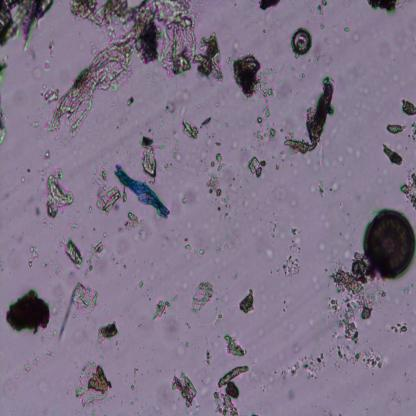Background material: (46, 1, 226, 139), (282, 78, 336, 156), (330, 257, 379, 320), (0, 0, 57, 49), (7, 288, 52, 337), (336, 79, 376, 132), (204, 148, 232, 217), (271, 349, 329, 382), (213, 365, 249, 415), (88, 164, 121, 216), (76, 360, 112, 406), (41, 165, 74, 215), (262, 60, 303, 98), (328, 300, 361, 343), (301, 36, 339, 73), (326, 347, 384, 371), (233, 54, 262, 100), (370, 22, 399, 62), (68, 282, 100, 317), (172, 372, 198, 410), (56, 297, 76, 343), (190, 278, 214, 314), (29, 48, 55, 81), (140, 132, 158, 178), (303, 0, 328, 31), (61, 236, 84, 268), (254, 111, 276, 142), (173, 183, 200, 208), (164, 91, 192, 114), (398, 20, 416, 55), (366, 0, 401, 18), (249, 364, 273, 390), (97, 318, 120, 345), (336, 226, 356, 257), (334, 139, 366, 158), (284, 238, 300, 276), (223, 334, 248, 358), (165, 136, 181, 171), (86, 239, 104, 270), (306, 144, 325, 172), (312, 178, 340, 196), (402, 170, 416, 205), (238, 288, 256, 315), (216, 231, 238, 253), (178, 119, 200, 141), (152, 298, 171, 323), (170, 335, 191, 357), (247, 155, 266, 179), (312, 211, 334, 231), (383, 144, 403, 166), (320, 150, 346, 166), (203, 115, 219, 140), (119, 211, 139, 231), (0, 97, 8, 147), (262, 218, 278, 242), (21, 353, 39, 374), (144, 258, 158, 284), (399, 99, 416, 118), (386, 121, 407, 136), (110, 249, 126, 268), (311, 269, 324, 292), (0, 53, 9, 86), (390, 71, 406, 89), (43, 85, 59, 103), (28, 246, 40, 270), (166, 317, 181, 336), (76, 331, 91, 350), (320, 403, 341, 416), (138, 221, 151, 242), (270, 184, 286, 201), (30, 113, 46, 130), (281, 292, 292, 316), (4, 376, 16, 398), (154, 113, 165, 136), (131, 363, 140, 391), (263, 10, 277, 28), (258, 1, 283, 11), (99, 228, 115, 243), (388, 322, 408, 334), (40, 257, 61, 268), (315, 238, 330, 253), (230, 37, 243, 54), (232, 170, 242, 192), (52, 298, 62, 320), (212, 308, 224, 326), (249, 224, 264, 238), (37, 346, 53, 359), (230, 136, 244, 150), (282, 317, 295, 332), (170, 110, 177, 136), (52, 133, 64, 148), (66, 268, 77, 284), (124, 97, 134, 114), (289, 225, 302, 238), (239, 196, 251, 210), (267, 264, 280, 276), (256, 323, 268, 336), (204, 348, 212, 367), (10, 366, 22, 378), (57, 263, 66, 279), (402, 283, 413, 296), (40, 217, 53, 228), (180, 319, 191, 330), (278, 228, 286, 243), (351, 31, 361, 43), (264, 246, 274, 258), (290, 343, 301, 353), (112, 119, 122, 130), (68, 221, 80, 230), (286, 390, 296, 400), (91, 39, 97, 55), (33, 204, 41, 216), (380, 286, 387, 298), (291, 194, 297, 208), (412, 121, 416, 142), (96, 352, 105, 361), (196, 101, 205, 110), (73, 206, 83, 214), (45, 148, 51, 161), (223, 293, 230, 304), (256, 140, 262, 152), (137, 278, 144, 288), (26, 198, 33, 208), (198, 247, 205, 257), (185, 243, 192, 252), (272, 163, 282, 169), (309, 318, 316, 326), (125, 373, 130, 384), (216, 298, 223, 305), (205, 140, 212, 147), (2, 192, 8, 200), (247, 143, 255, 149), (146, 127, 154, 133), (53, 328, 58, 337), (322, 266, 328, 273), (292, 168, 298, 175), (132, 397, 138, 404), (135, 322, 143, 327), (344, 26, 350, 32), (216, 140, 222, 146), (26, 166, 32, 172), (401, 371, 407, 377), (262, 27, 266, 35), (147, 295, 152, 301), (20, 177, 26, 182), (408, 342, 412, 349), (84, 269, 89, 274), (215, 103, 221, 107), (279, 127, 283, 132), (403, 0, 406, 5), (271, 156, 275, 159), (290, 162, 293, 166), (273, 212, 275, 216)
Cotton: (115, 166, 171, 220)
Diatom: (363, 209, 416, 282), (290, 27, 314, 56)
